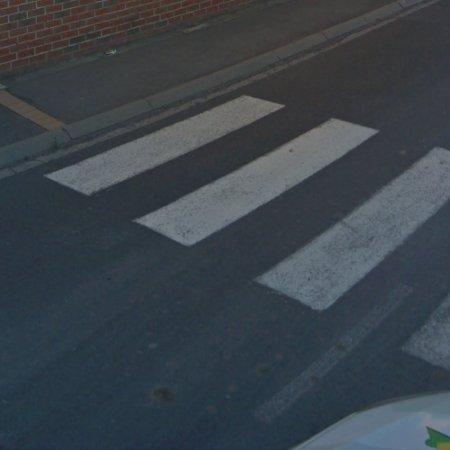crosswalks: (45, 96, 450, 373)
